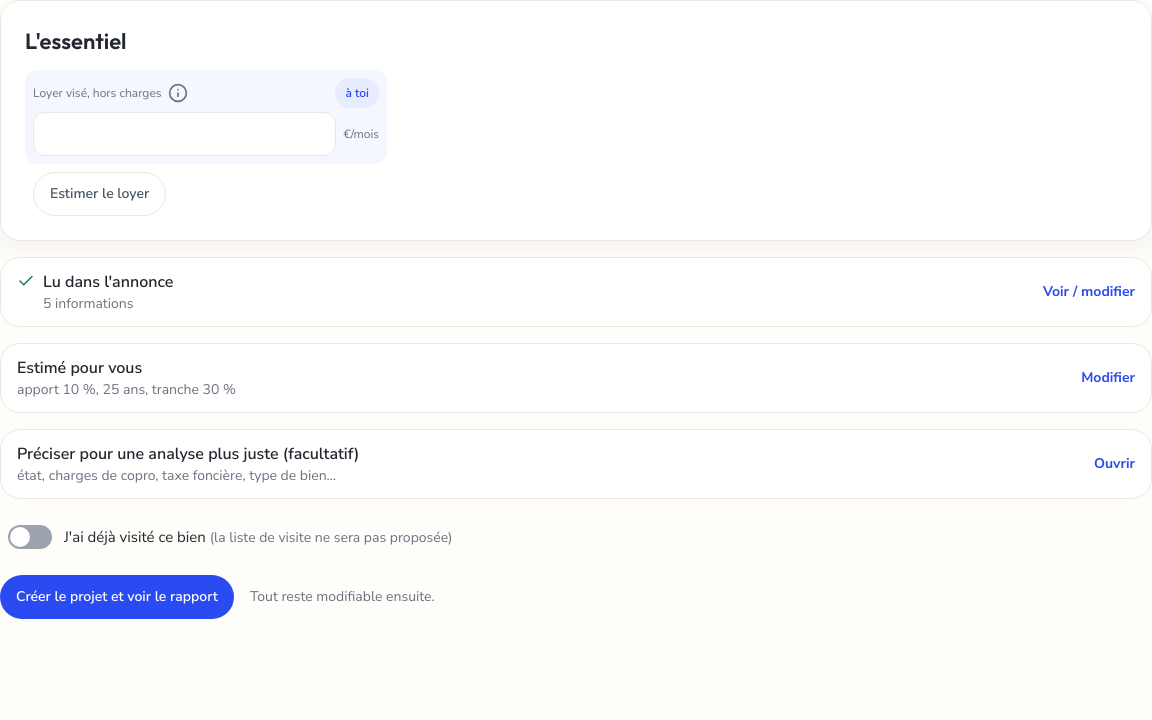
Test: Vérifier : le strict minimum d’abord › annonce lue : seul le loyer reste en haut, le reste est résumé
Expected: the field labelled "Prix affiché" is not shown
Expected: the field labelled "Loyer visé, hors charges" is shown, [33,112,336,156]
Click the button "Lu dans l'annonce 5 informations Voir / modifier" at (108, 282), box [0,257,1151,327]
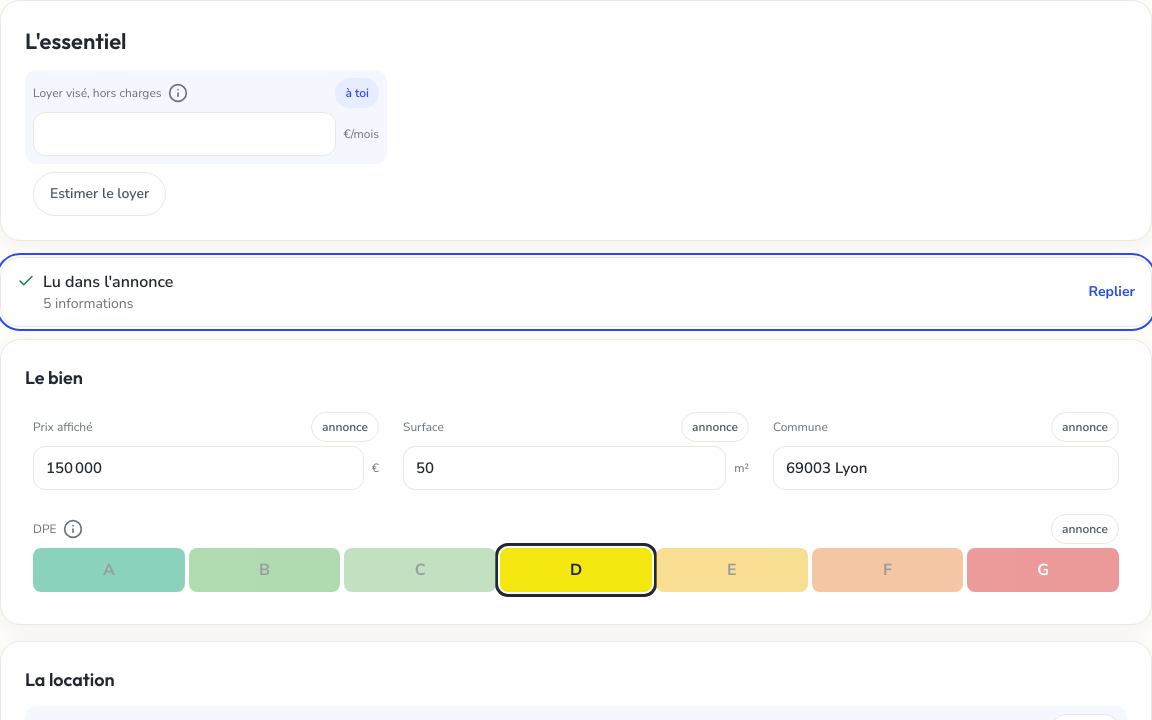
Expected: the button "Lu dans l'annonce 5 informations Replier" is shown, [0,257,1151,327]
Expected: the radio button labelled "D" is checked, [500,548,652,592]
// L'icône ⓘ du DPE ouvre sa définition sans changer la lettre.
Click the button named "Explication : DPE" next to "DPE" at (72, 529), box [50,507,94,551]
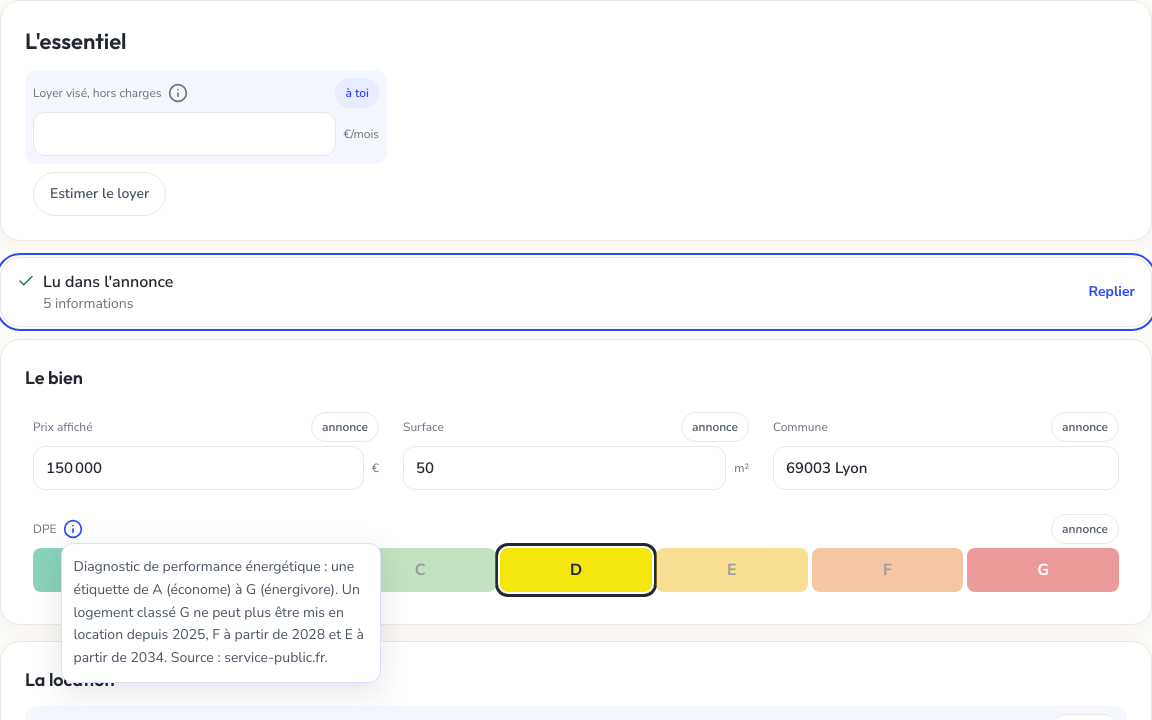
Expected: the radio button labelled "D" is checked, [500,548,652,592]
Expected: the tooltip shows "Diagnostic de performance énergétique", [74,557,364,667]
Click the button "Lu dans l'annonce 5 informations Replier" at (108, 282), box [0,257,1151,327]
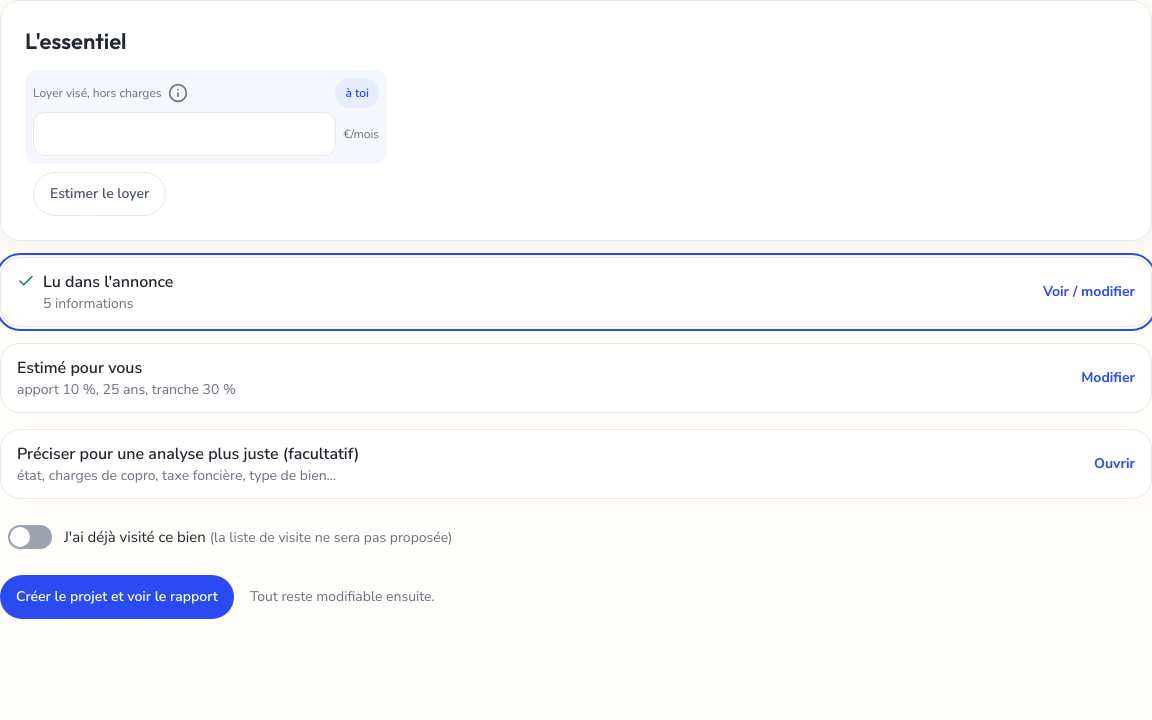
Expected: the text "DPE" is gone
